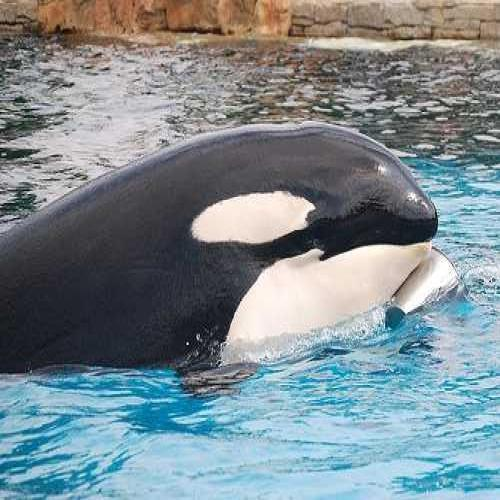killer_whale-endangered: (0, 102, 441, 382)
